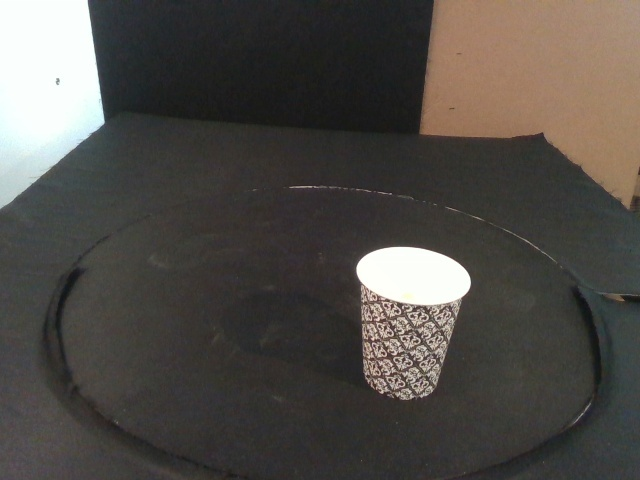glass: (356, 246, 473, 400)
